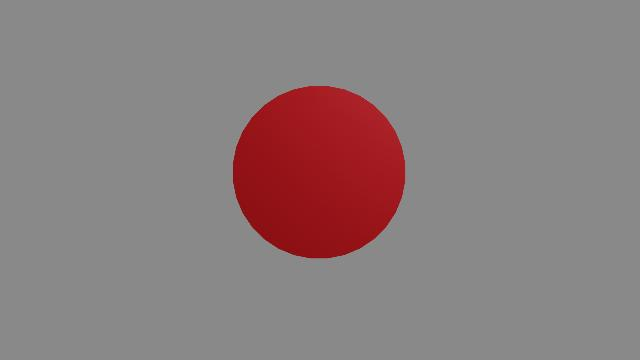Cylinder: (228, 77, 410, 263)
